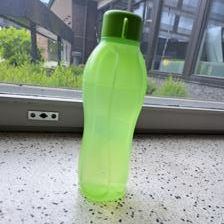bottle: (76, 9, 151, 203)
